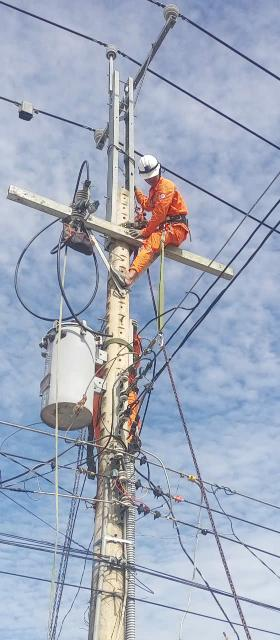gloves: (129, 317, 141, 336), (126, 226, 143, 239)
harness: (153, 212, 197, 228)
helmet: (135, 153, 169, 182)
shoes: (106, 262, 133, 287)
